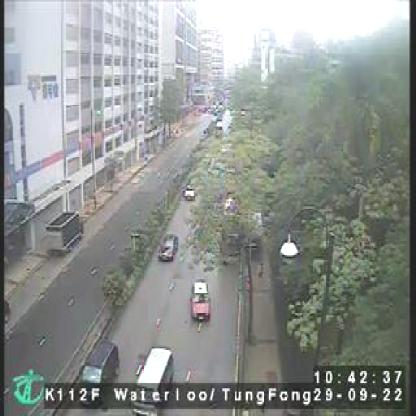Car: (127, 343, 173, 411), (75, 336, 117, 406), (190, 277, 213, 326), (154, 231, 180, 268), (182, 177, 195, 203)
Truck: (45, 206, 86, 258)
